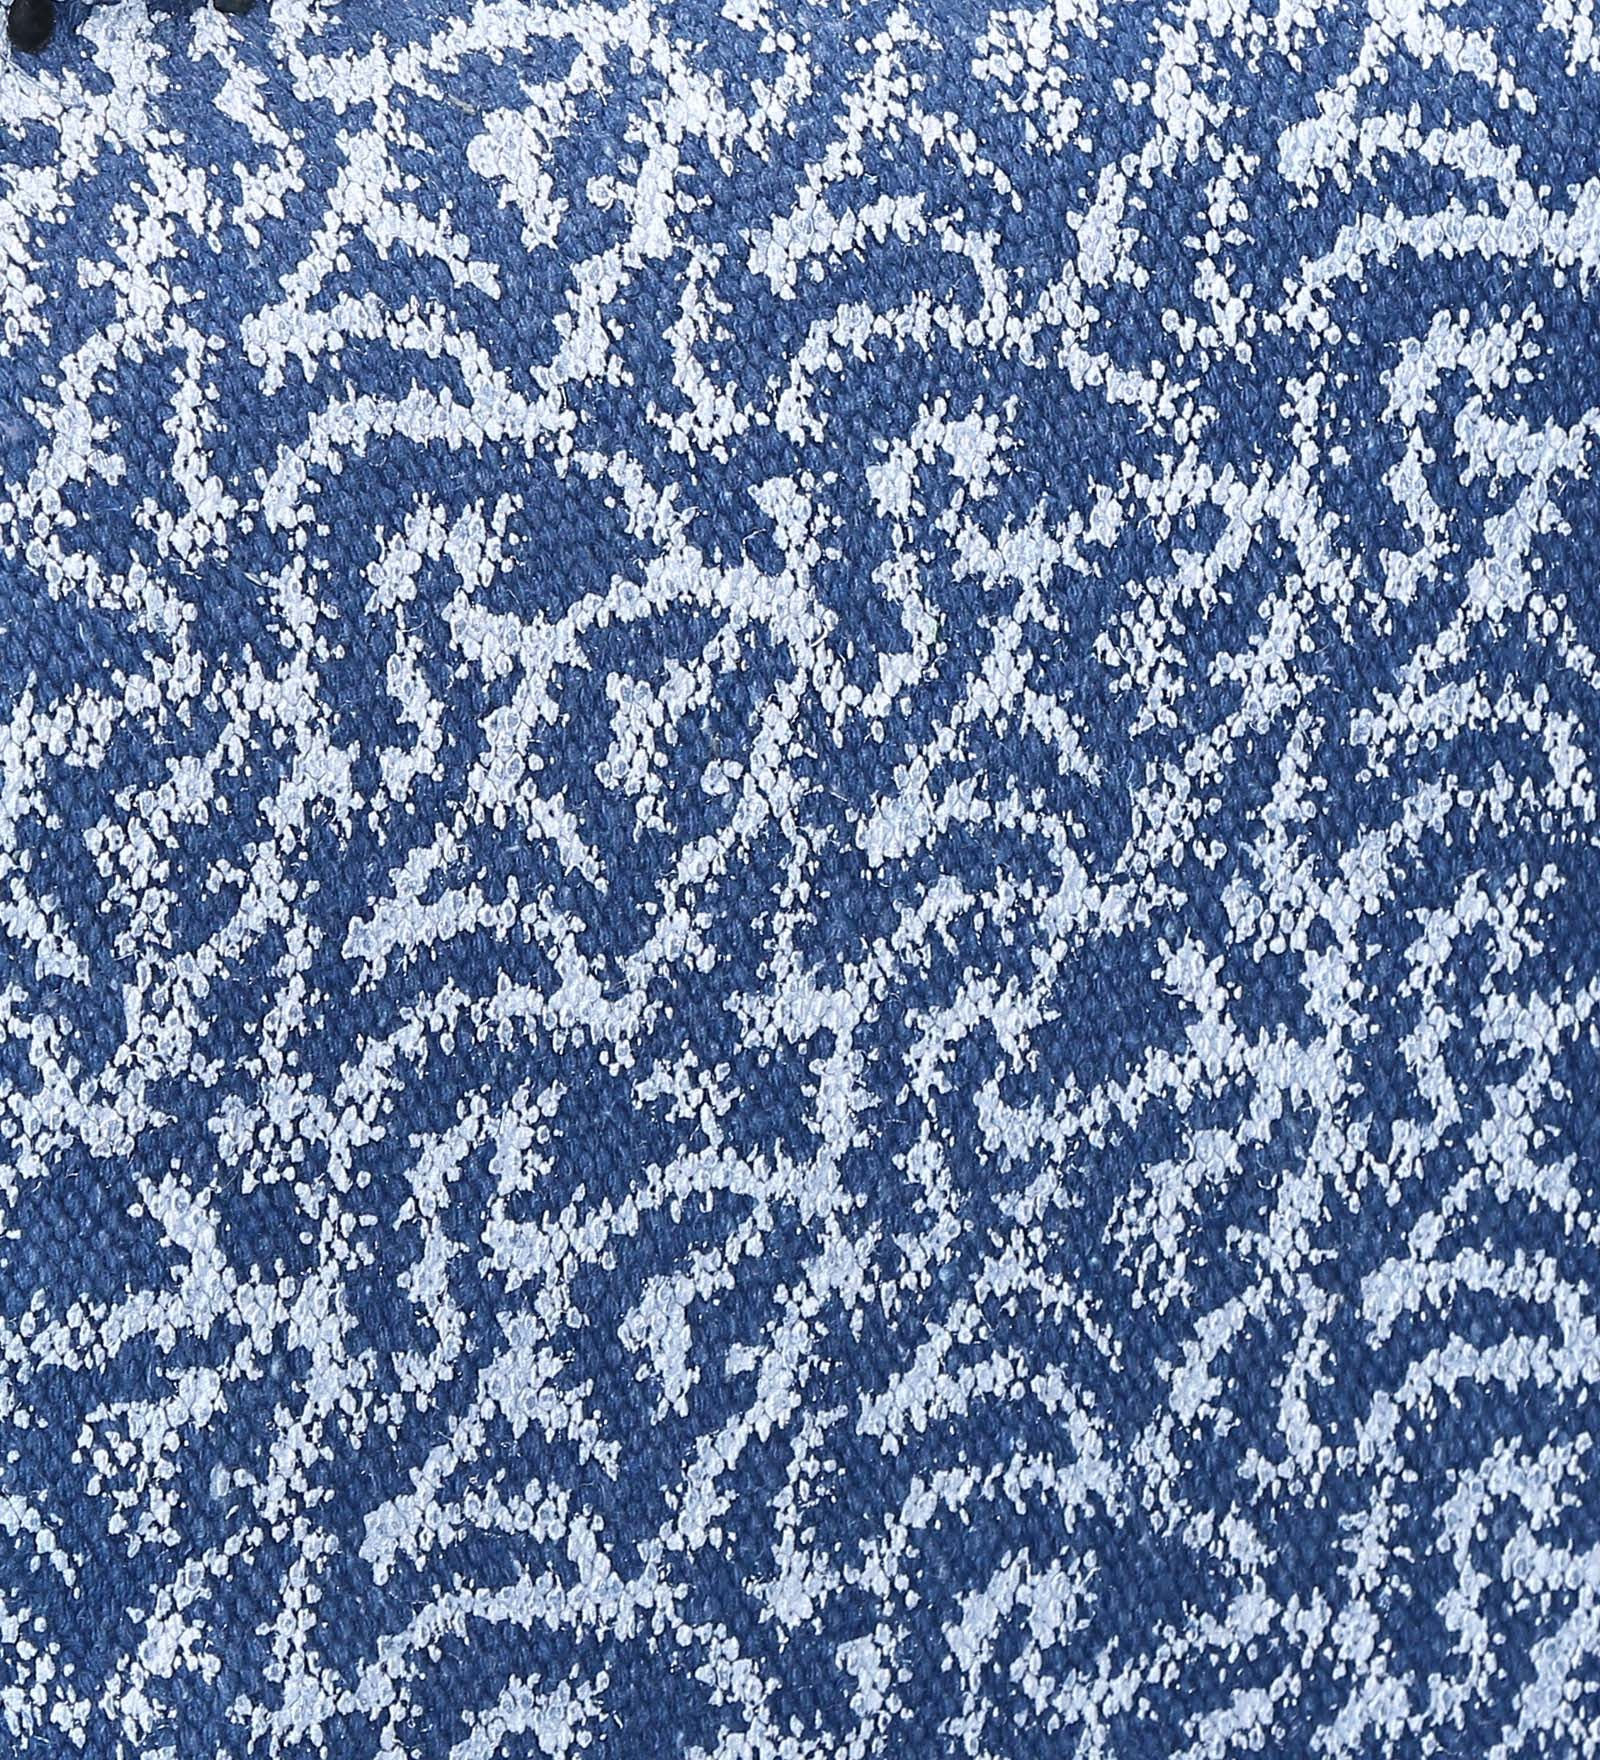Elton Arm Chair in Blue Colour by Bohemiana: (2, 5, 1595, 1760)
